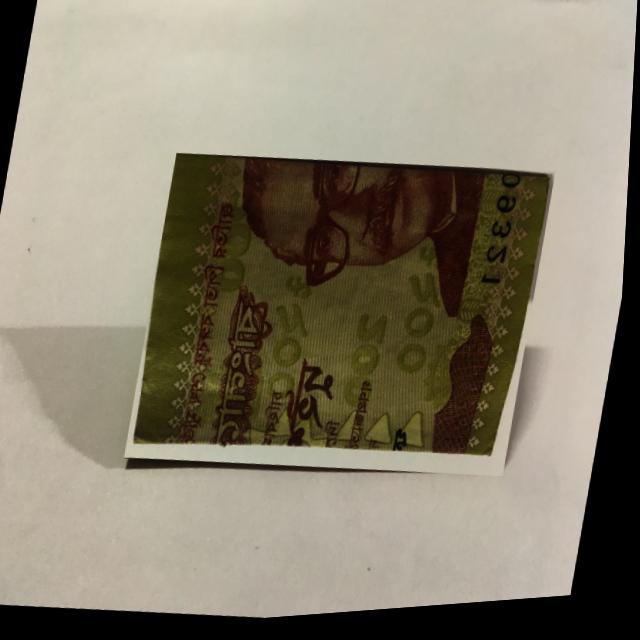Taka: (128, 134, 560, 506)
